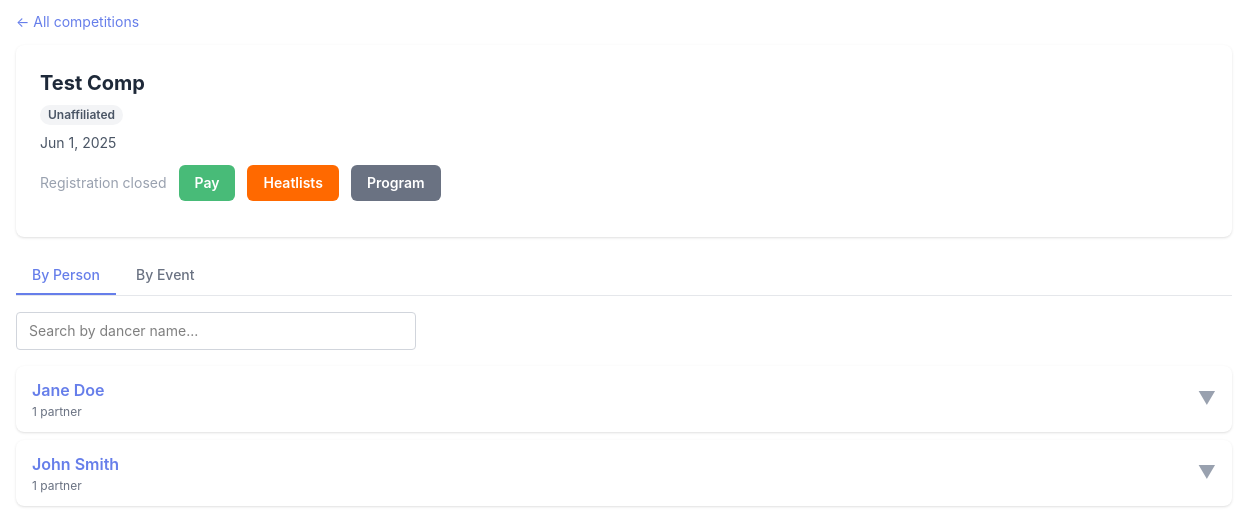
Test case: PublicResultsPage › should show competition detail with tabbed views and event list
Expected: the button "By Person" is shown, [16,257,116,295]
Expected: the link "Jane Doe" is shown, [32,380,104,400]
// Switch to "By Event" tab to see events
Click the button "By Event": [165, 276] box [120,257,210,295]
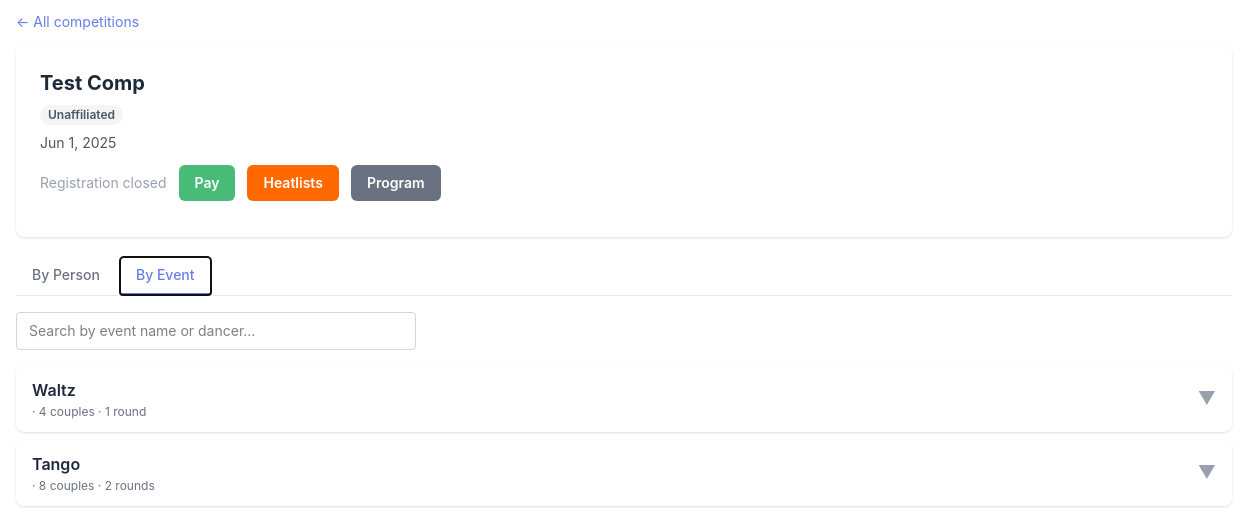
Now the text "Waltz" is shown, box [32,380,76,400]
Now the text "Tango" is shown, box [32,454,80,474]
